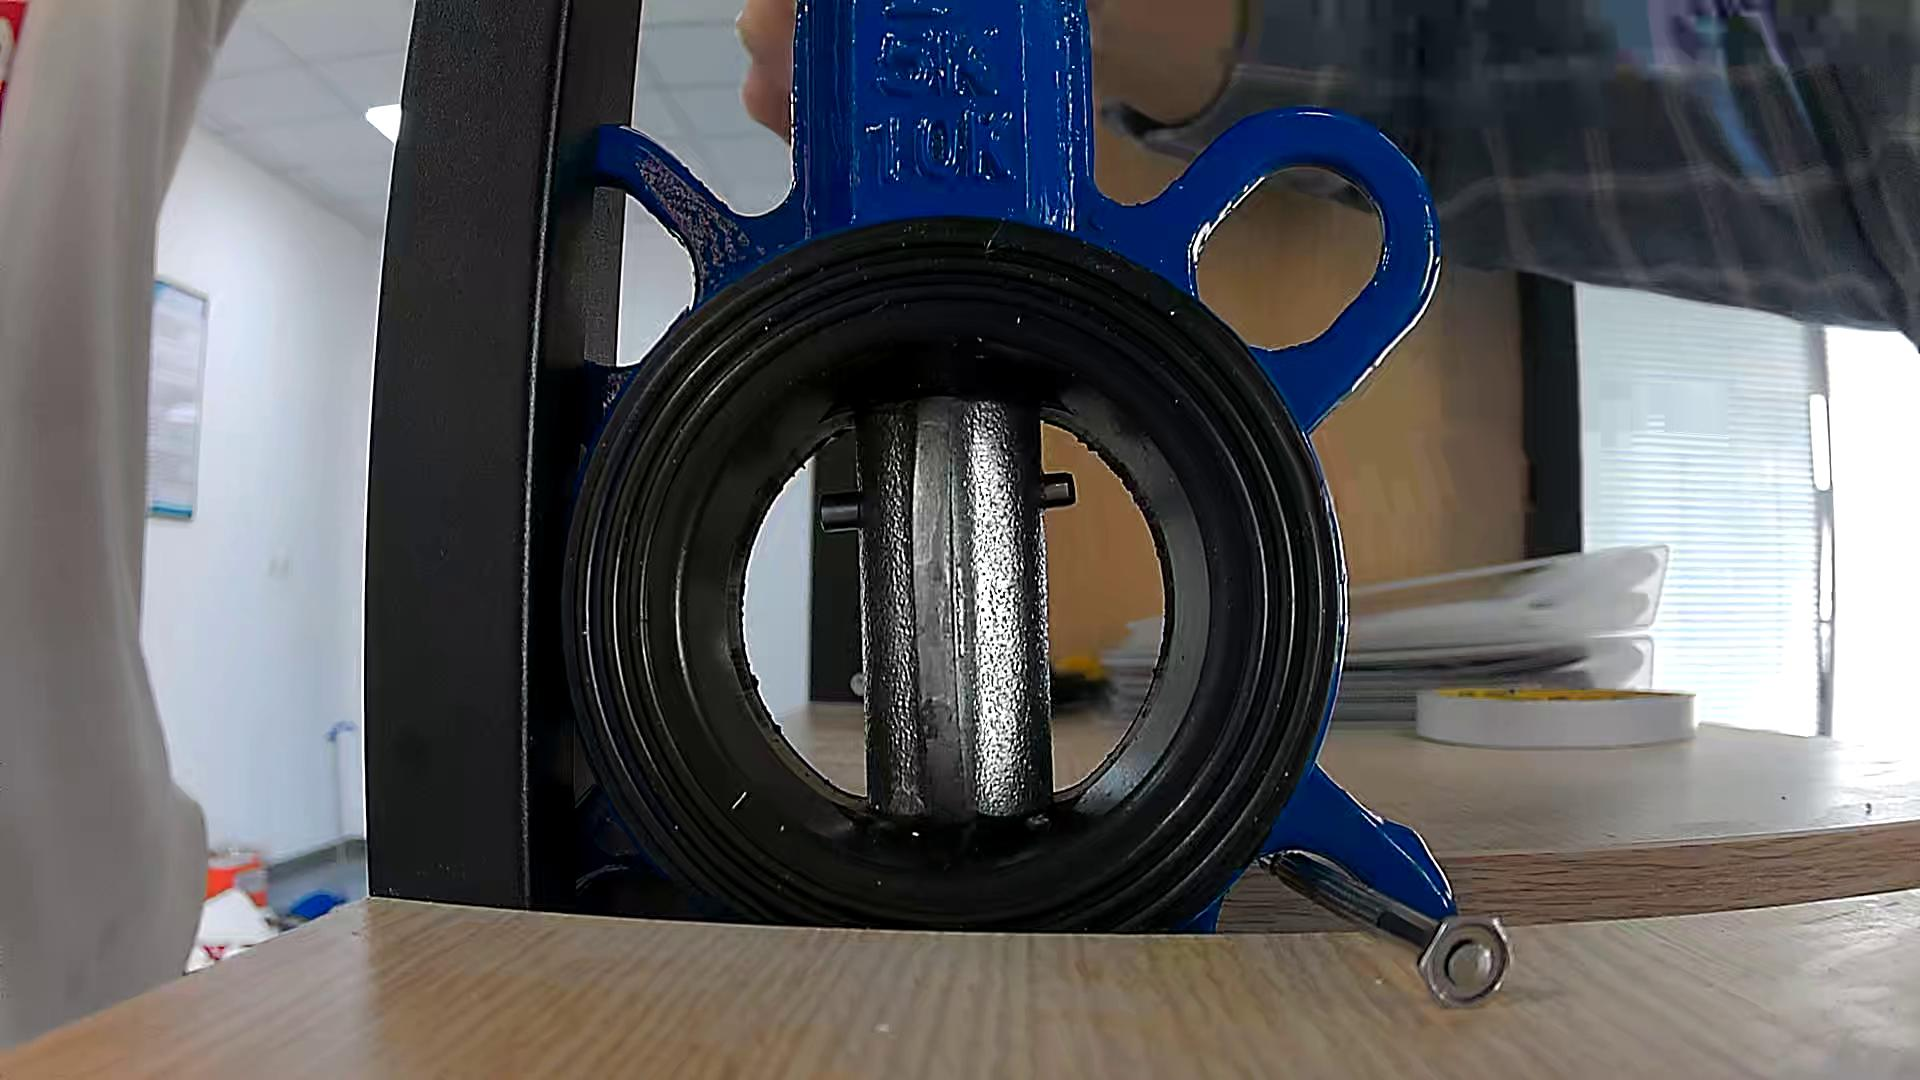valve: (855, 398, 1054, 825)
